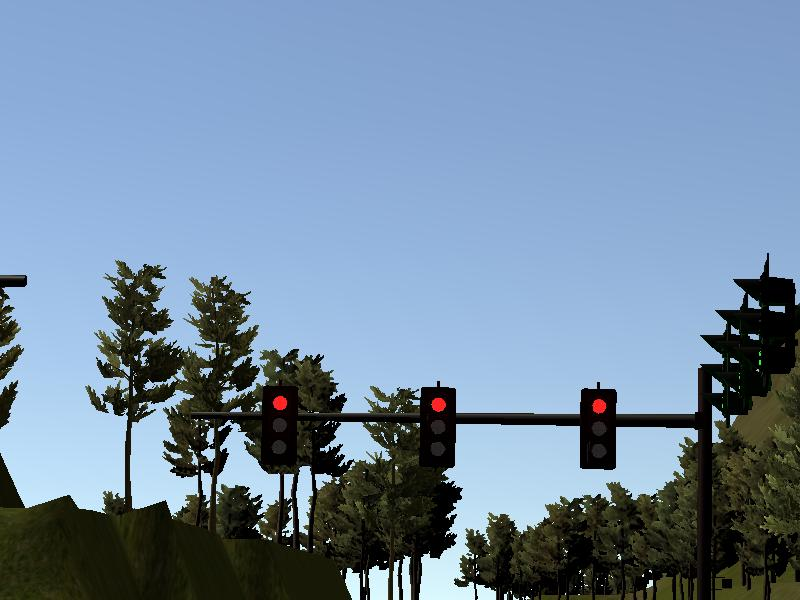red: (581, 388, 616, 469), (421, 387, 455, 467), (264, 384, 297, 464)
